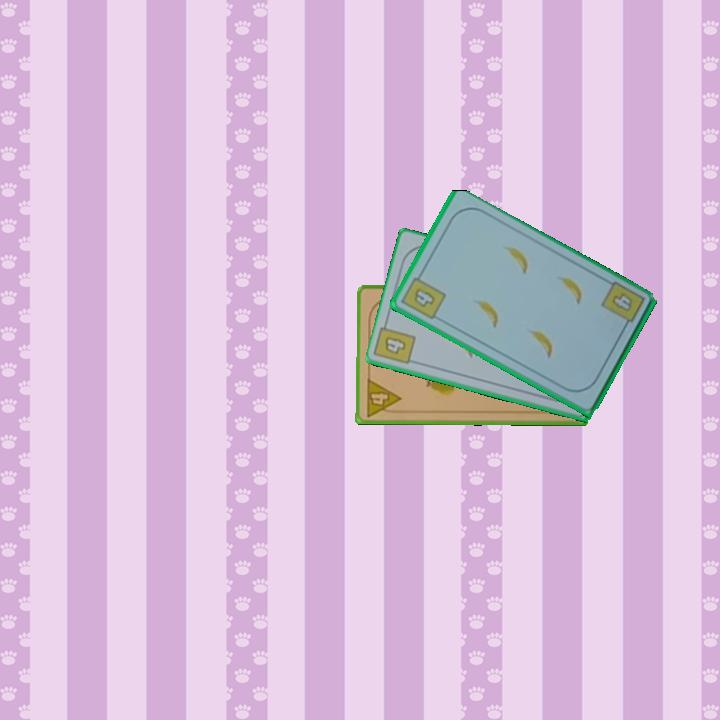4b: (398, 269, 449, 323), (598, 278, 648, 333), (381, 333, 409, 357)
4p: (362, 375, 403, 419)
